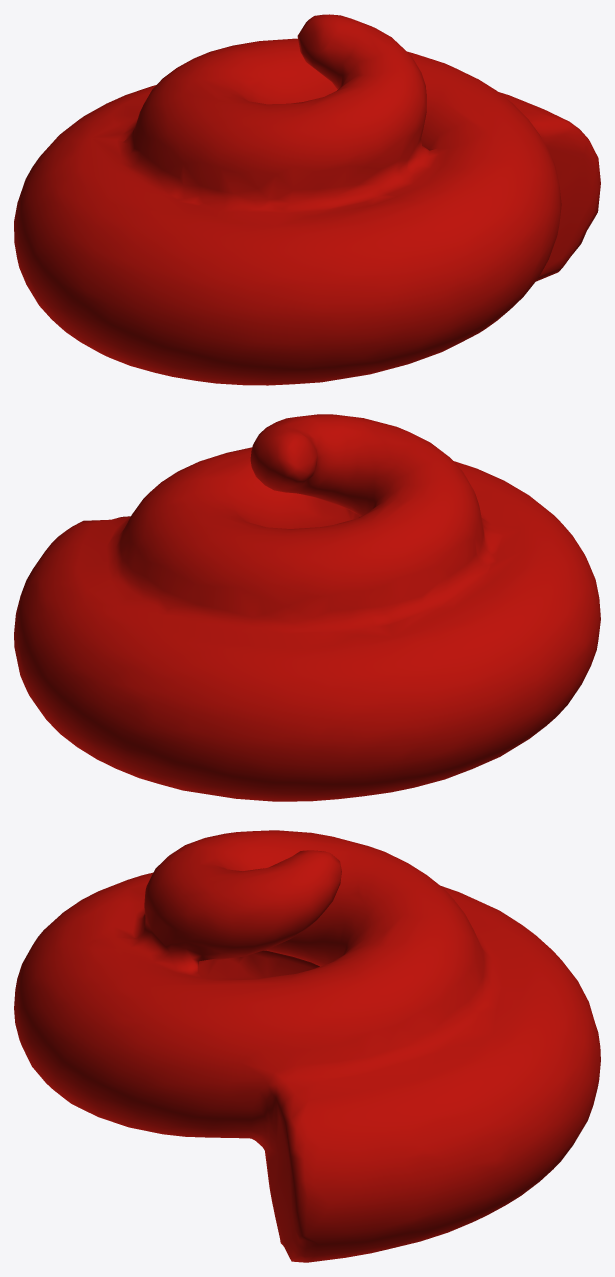
File: ketchup.glb
The picture shows the model from 3 angles, top to bottom: view 1: azimuth 30°, elevation 25°; view 2: azimuth 150°, elevation 25°; view 3: azimuth 270°, elevation 25°; orthographic projection. The views are drawn at different scales.
Parts seen in each view (by area): view 1: p0; view 2: p0; view 3: p0.
Boxes of the visible parts, x1,y1,x2,y2 form: p0: (14, 14, 600, 385); p0: (14, 414, 600, 801); p0: (14, 830, 600, 1262).
Bounding box in the file's own units: 0.0247 × 0.0132 × 0.0228.
